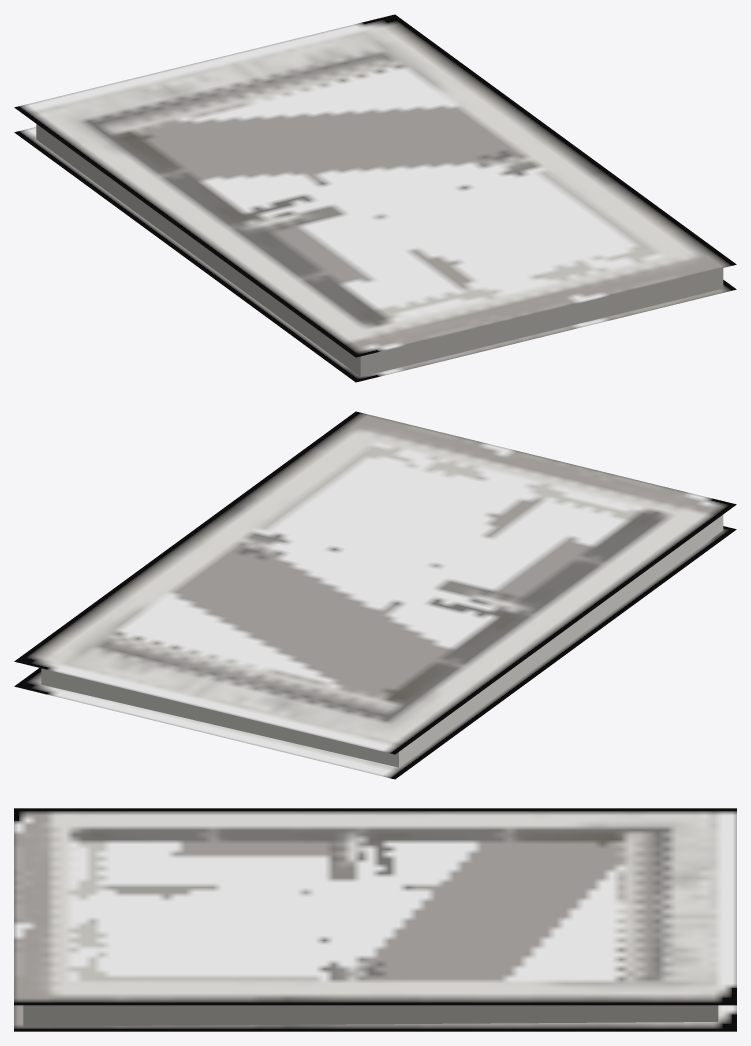
The model's file is pz_native_fixtures_windows_01_15_frame.obj.
The picture shows the model from 3 angles, top to bottom: view 1: azimuth 30°, elevation 25°; view 2: azimuth 150°, elevation 25°; view 3: azimuth 270°, elevation 25°; orthographic projection. The views are drawn at different scales.
Visible parts, largest first — view 1: pz_native_fixtures_windows_01_15_frame; view 2: pz_native_fixtures_windows_01_15_frame; view 3: pz_native_fixtures_windows_01_15_frame.
Boxes of the visible parts, x1=… form: pz_native_fixtures_windows_01_15_frame: x1=14, y1=14, x2=736, y2=382; pz_native_fixtures_windows_01_15_frame: x1=14, y1=411, x2=736, y2=779; pz_native_fixtures_windows_01_15_frame: x1=14, y1=808, x2=736, y2=1031.
Bounding box in the file's own units: 0.6406 × 0.04 × 0.9951.
Materials: 1 (1 with a texture image).
